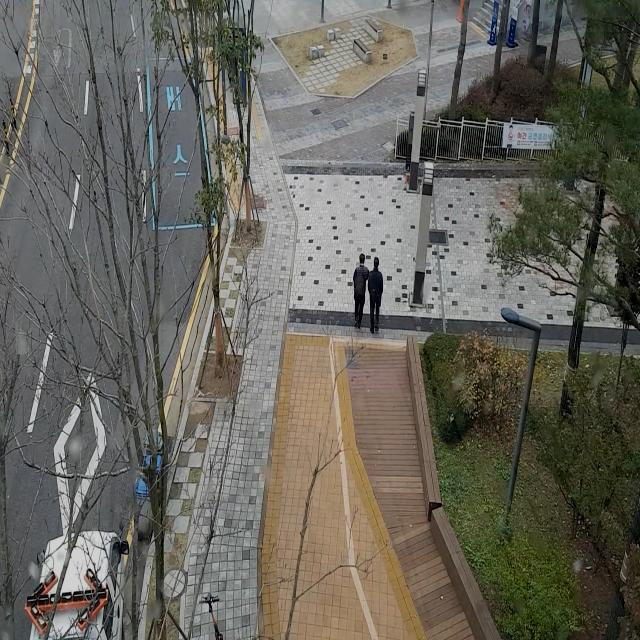Truck: (15, 510, 138, 640)
